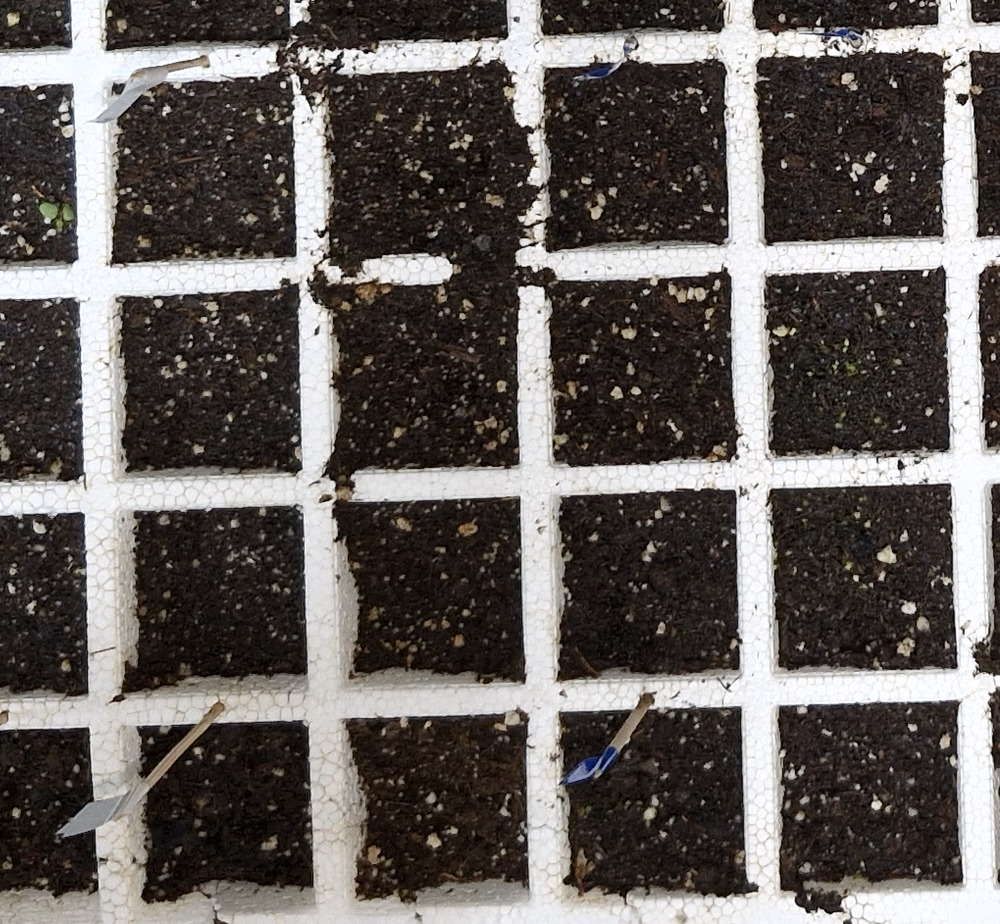Folha: (40, 203, 58, 218), (63, 204, 76, 221)
Germinacao: (39, 203, 75, 221)
